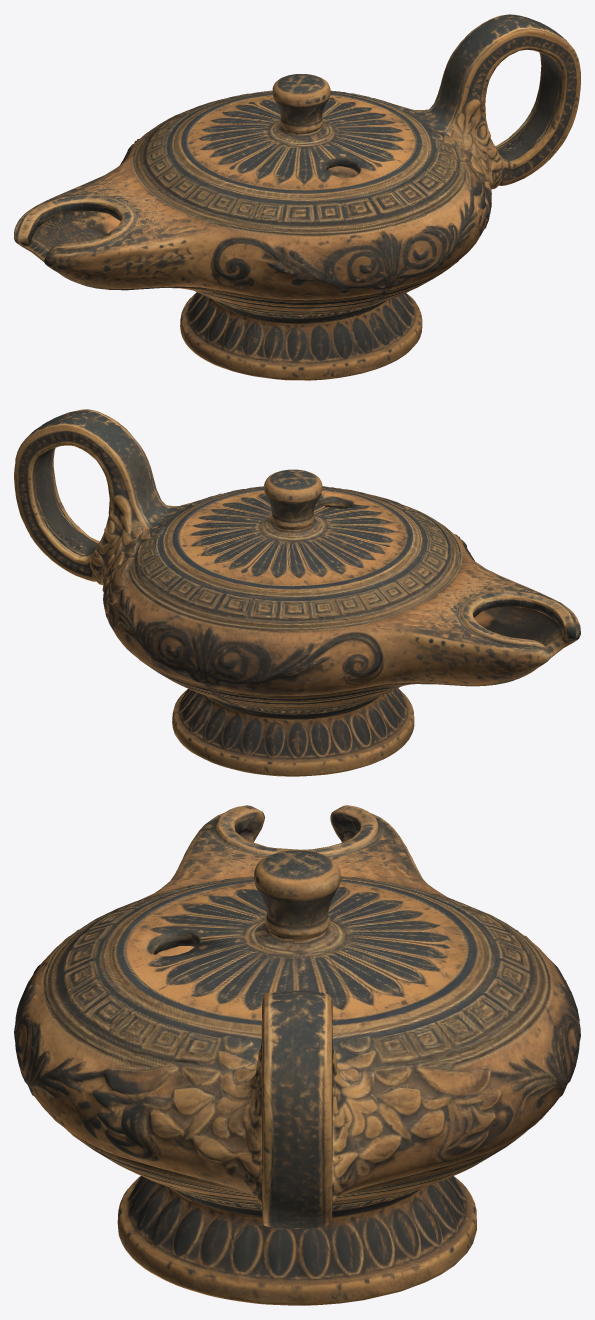
File: WF_GreekRelics_OilLamp.fbx
The picture shows the model from 3 angles, top to bottom: view 1: azimuth 30°, elevation 25°; view 2: azimuth 150°, elevation 25°; view 3: azimuth 270°, elevation 25°; orthographic projection. The views are drawn at different scales.
Visible parts, largest first — view 1: Mesh1.0; view 2: Mesh1.0; view 3: Mesh1.0.
Boxes of the visible parts, bbox=[...] form: Mesh1.0: bbox=[14, 14, 580, 380]; Mesh1.0: bbox=[14, 409, 580, 776]; Mesh1.0: bbox=[14, 805, 580, 1305].
Size of the model in its own units: 191 by 87.38 by 116.
Materials: 1 (1 with a texture image).
